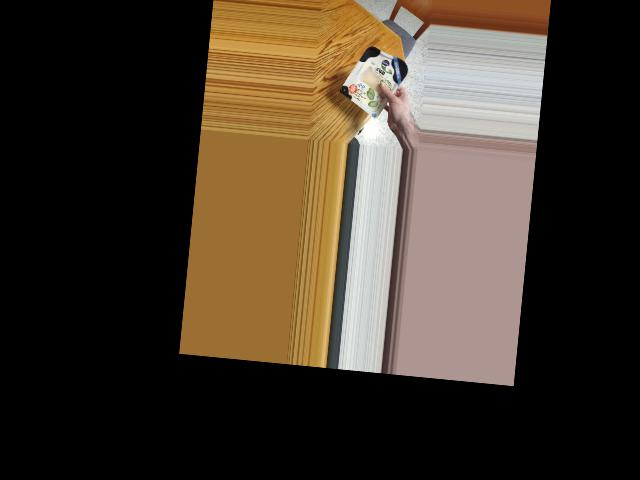cheese: (342, 45, 408, 112)
